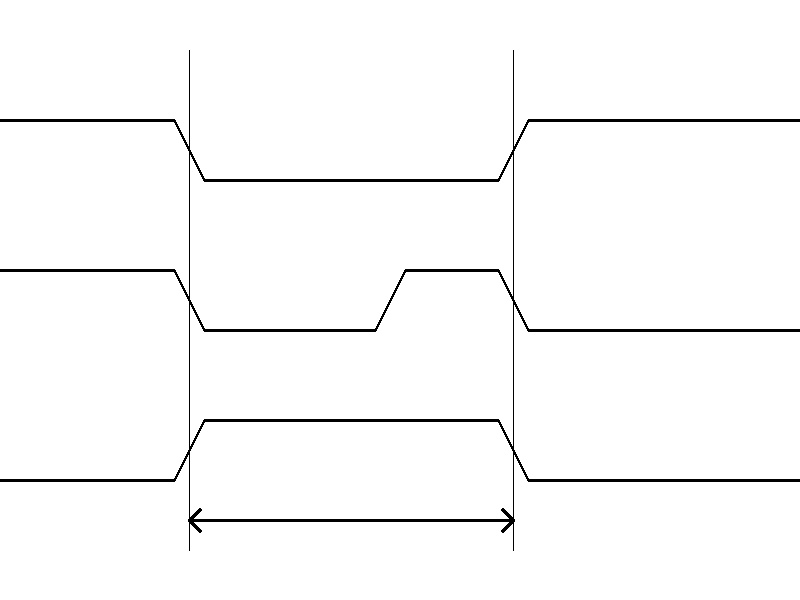double_arrow: (189, 505, 513, 535)
